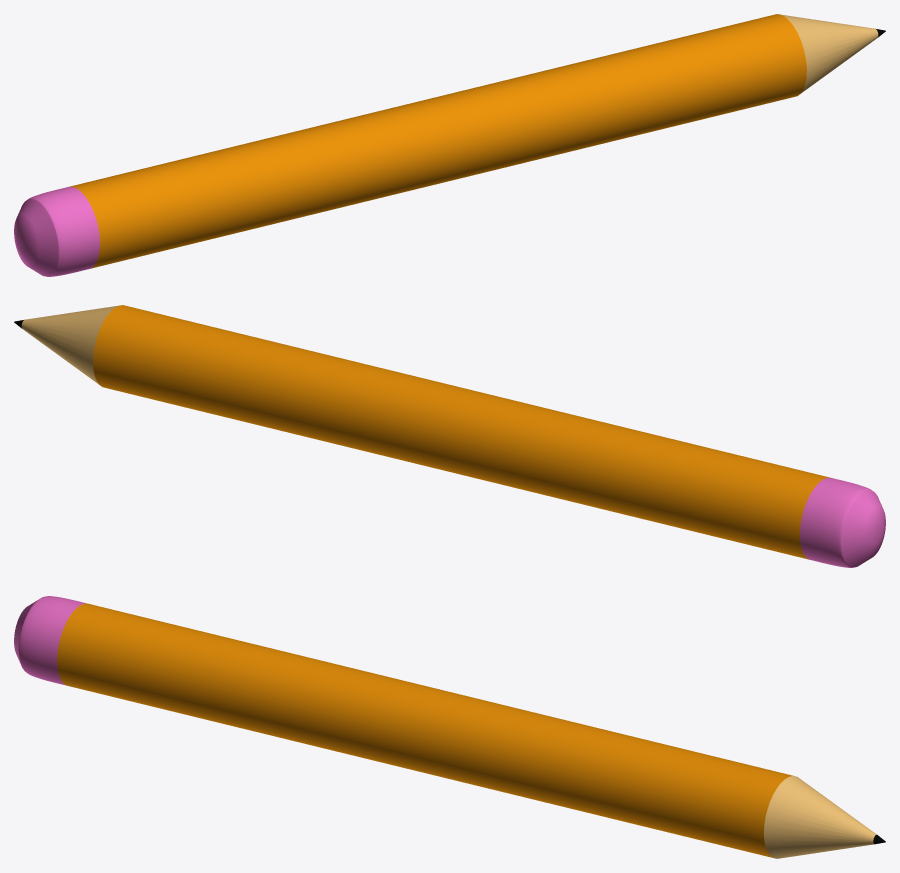
Rendered from Pencil.fbx.
3 views of the same model, one above another, from view 1: azimuth 30°, elevation 25°; view 2: azimuth 150°, elevation 25°; view 3: azimuth 330°, elevation 25° (orthographic).
Parts seen in each view (by area): view 1: Cylinder; view 2: Cylinder; view 3: Cylinder.
Part boxes in pixels (<box>): Cylinder: <box>14,14,885,276</box>; Cylinder: <box>14,305,885,567</box>; Cylinder: <box>14,596,885,858</box>.
Bounding box in the file's own units: 719 × 61.13 × 62.03.
